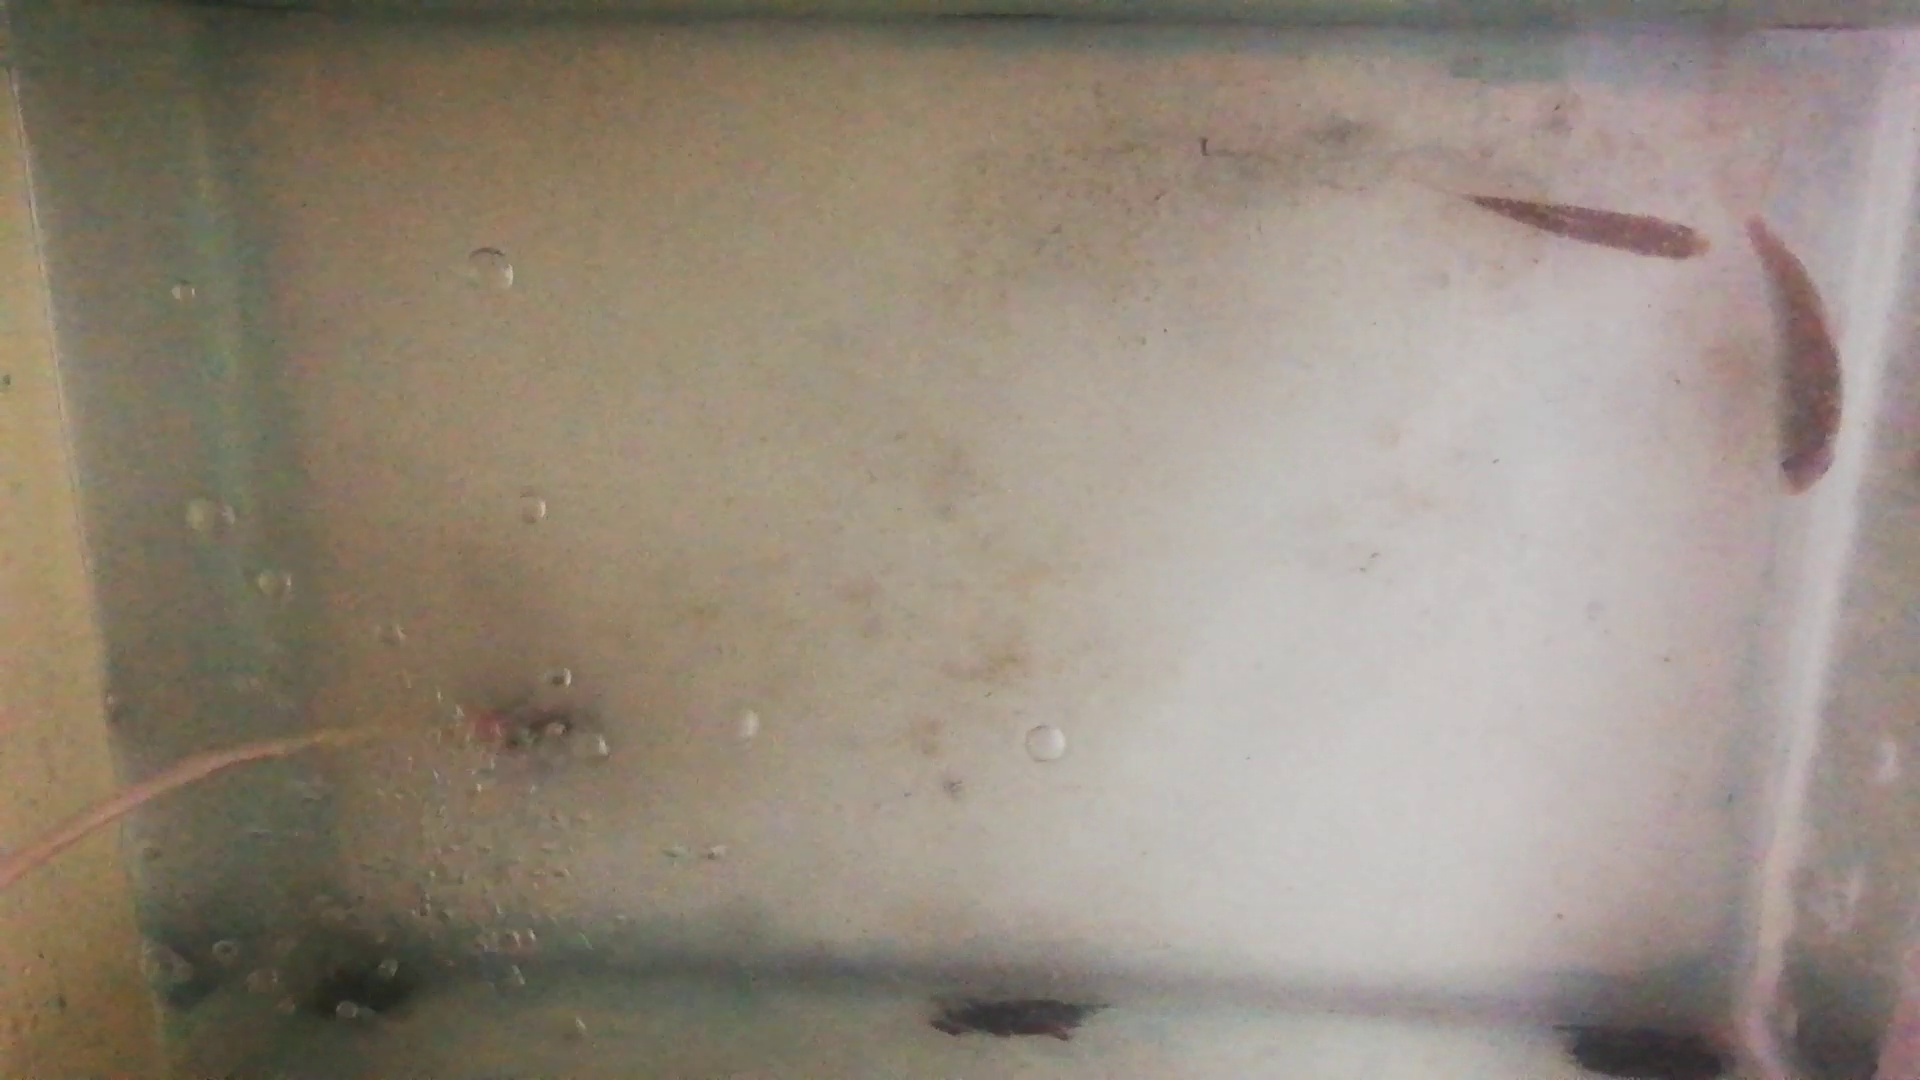fish: (1745, 218, 1846, 497), (1466, 193, 1710, 264)
